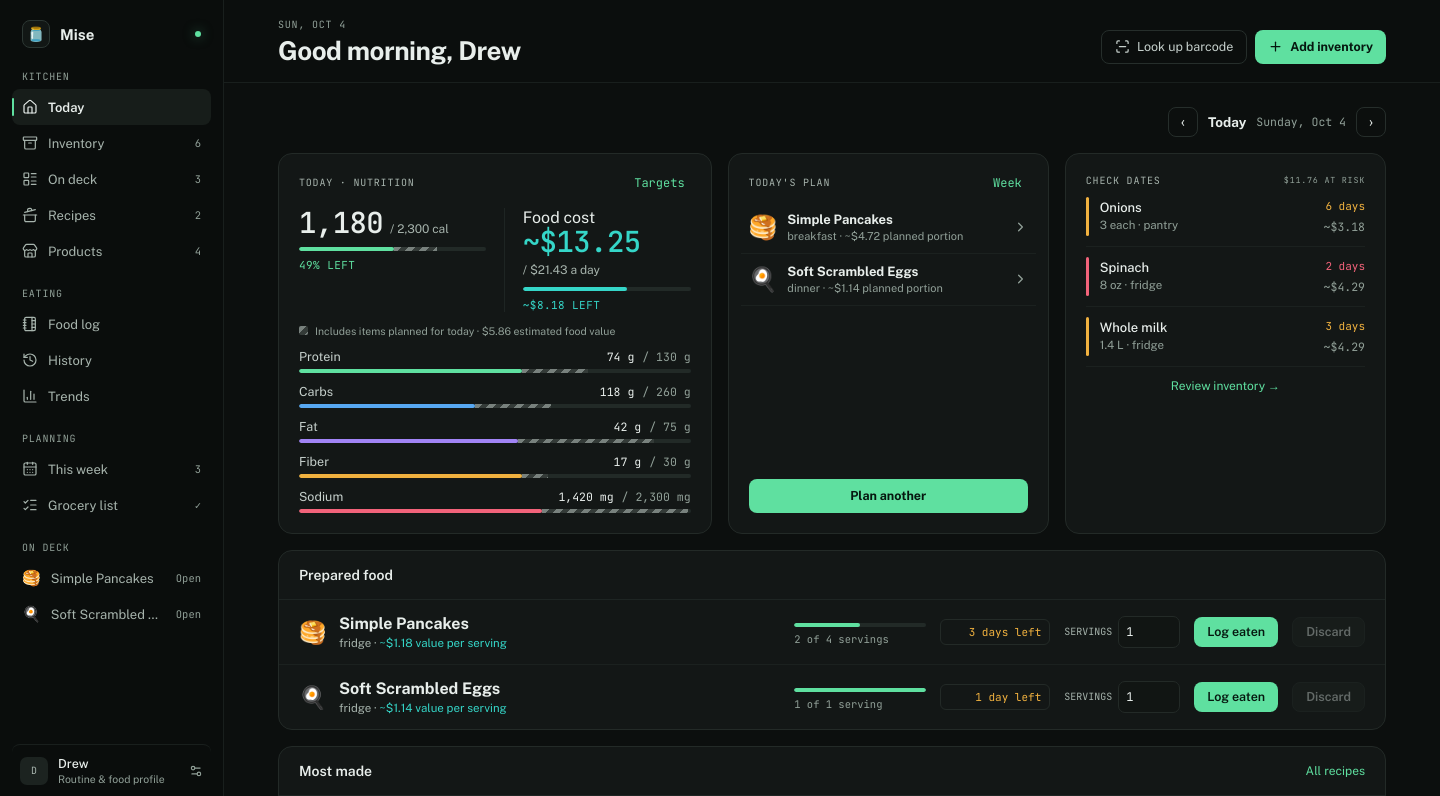
keeps checked changed demand visible and does not claim shopping is complete
Click the button "Grocery list ✓" at coordinates (112, 505), box [12,487,211,523]
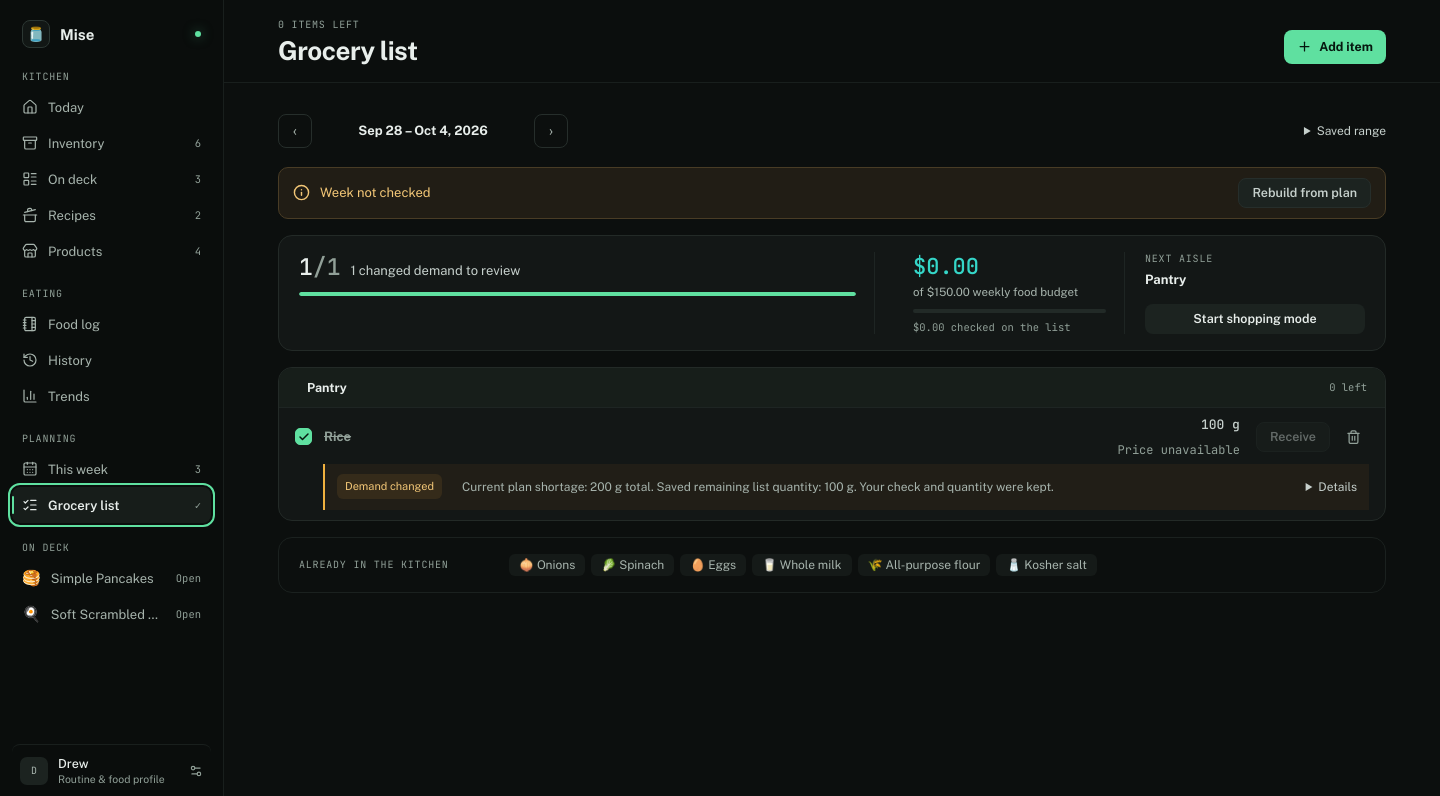
Now the text "Current plan shortage: 200 g total. Saved remaining list quantity: 100 g. Your check and quantity were kept." is shown, box [462,480,1054,494]
Now the text "1 changed demand to review" is shown, box [350,263,520,278]
